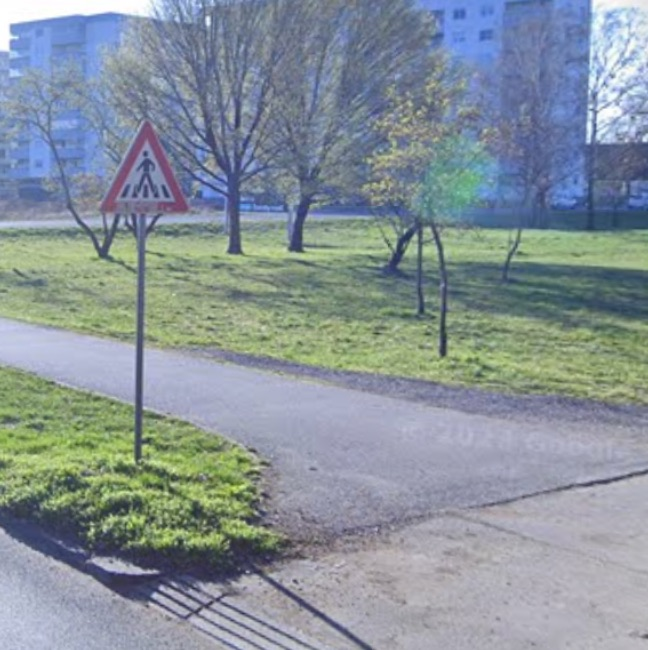Približavanje pješačkom prijelazu: (98, 119, 190, 217)
